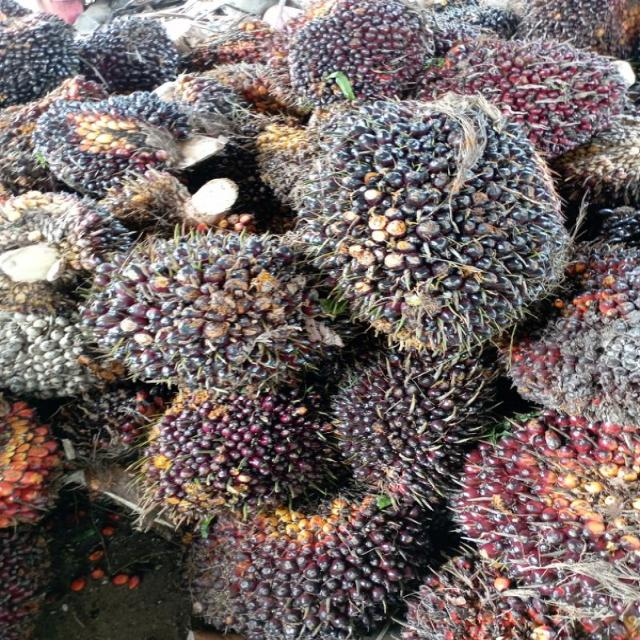fraksi 00: (299, 101, 567, 350), (78, 232, 335, 383), (21, 93, 198, 195), (279, 0, 426, 116), (0, 7, 79, 102), (79, 9, 166, 78)
fraksi 1: (175, 484, 425, 640), (320, 345, 500, 507), (131, 374, 326, 509), (432, 38, 630, 159)
fraksi 3: (442, 414, 640, 589)
